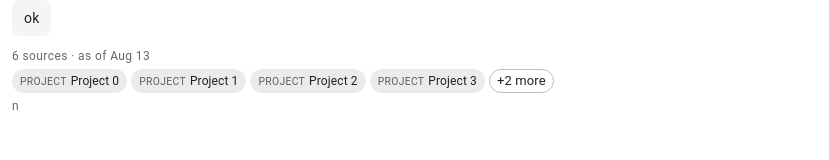
Test: collapses a long source list behind a "+N more" control
The image size is (829, 160).
Expected: the text "Project 5" is not shown
Click the button "+2 more" at {"x": 521, "y": 81}, box [489,69,554,93]
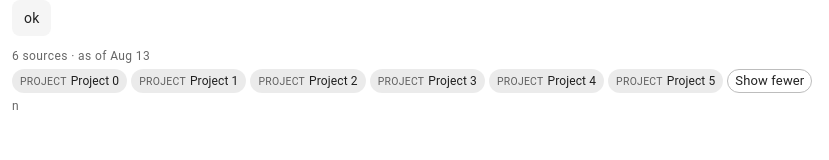
Result: the text "Project 5" is shown at [667,72,715,90]
